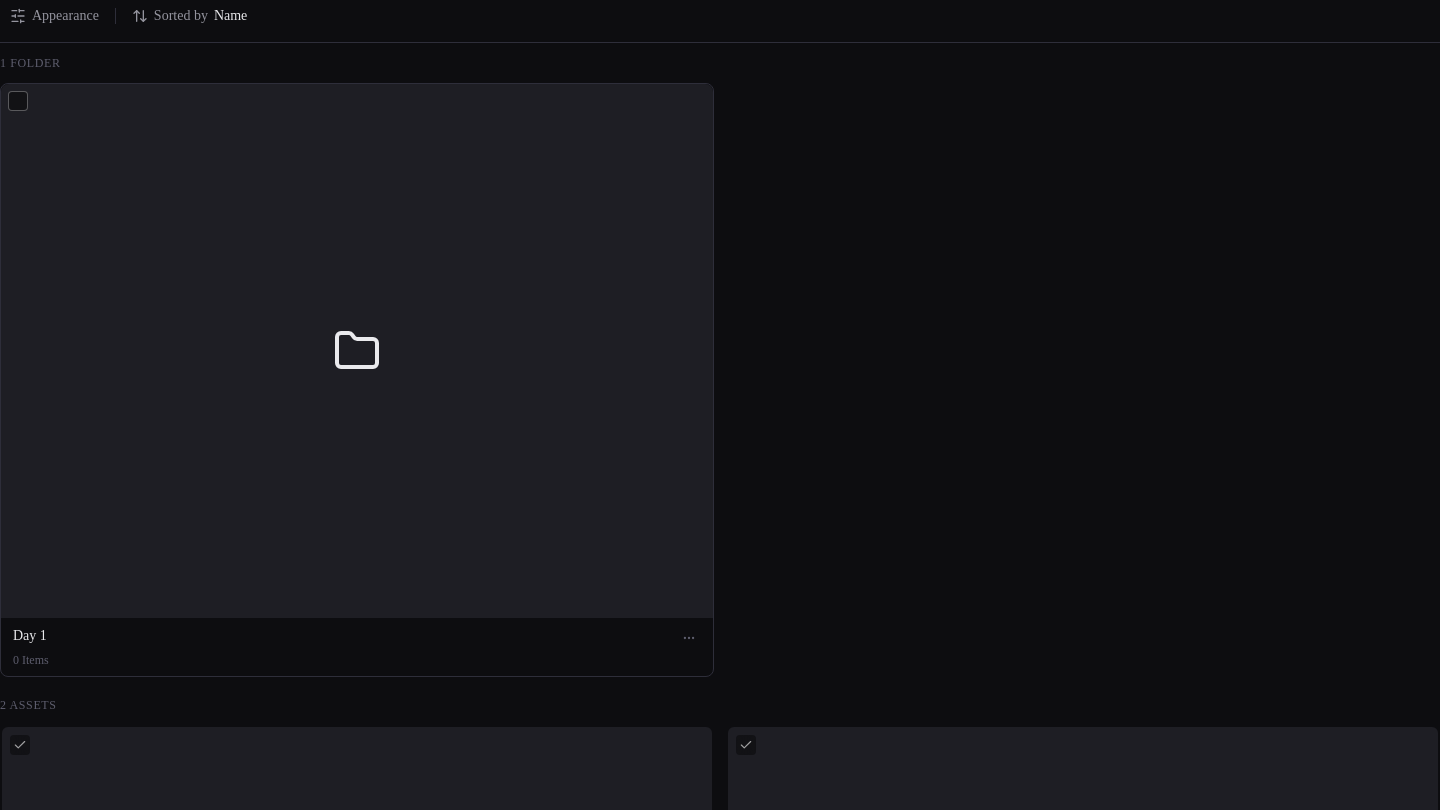
it: selection is still fully possible with a mouse › a click on empty space clears the selection
This screenshot has width=1440, height=810.
// NEW in §232 as well.
Click the button named "Select A One" at (20, 745), box 10,735 -> 30,755
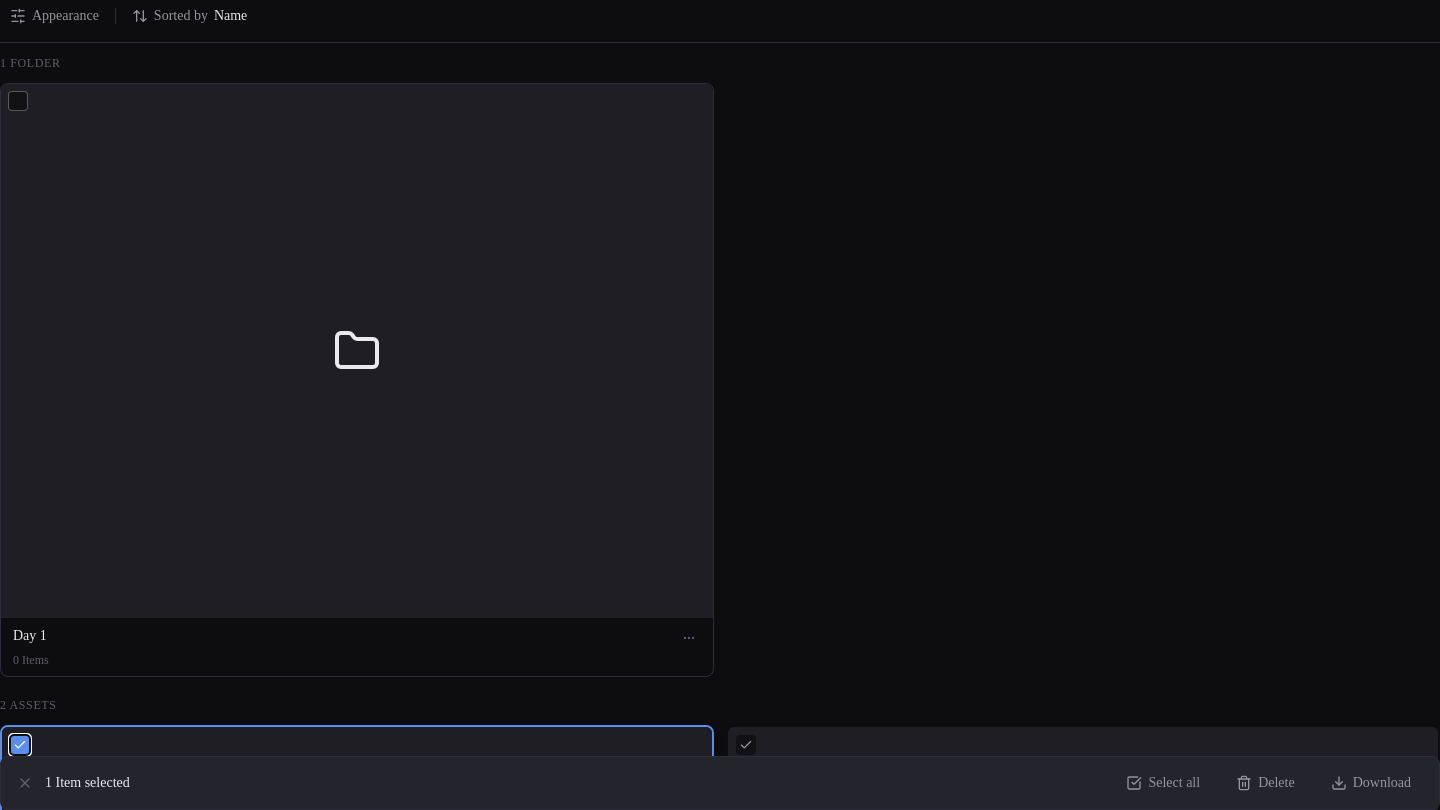
Click the element showing "1 Folder" at (30, 63), box 0,56 -> 60,70
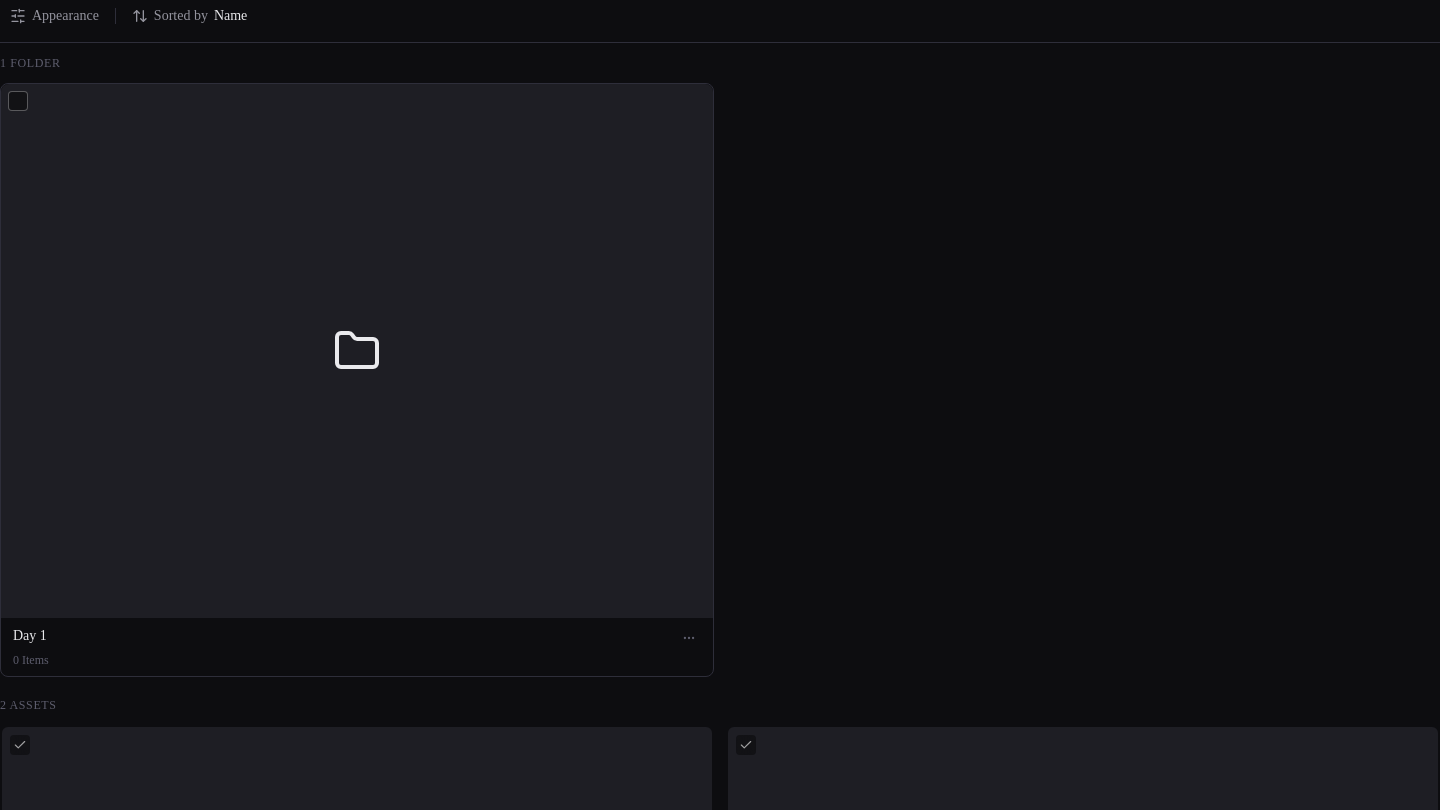
Result: the text "1 Item selected" is gone
